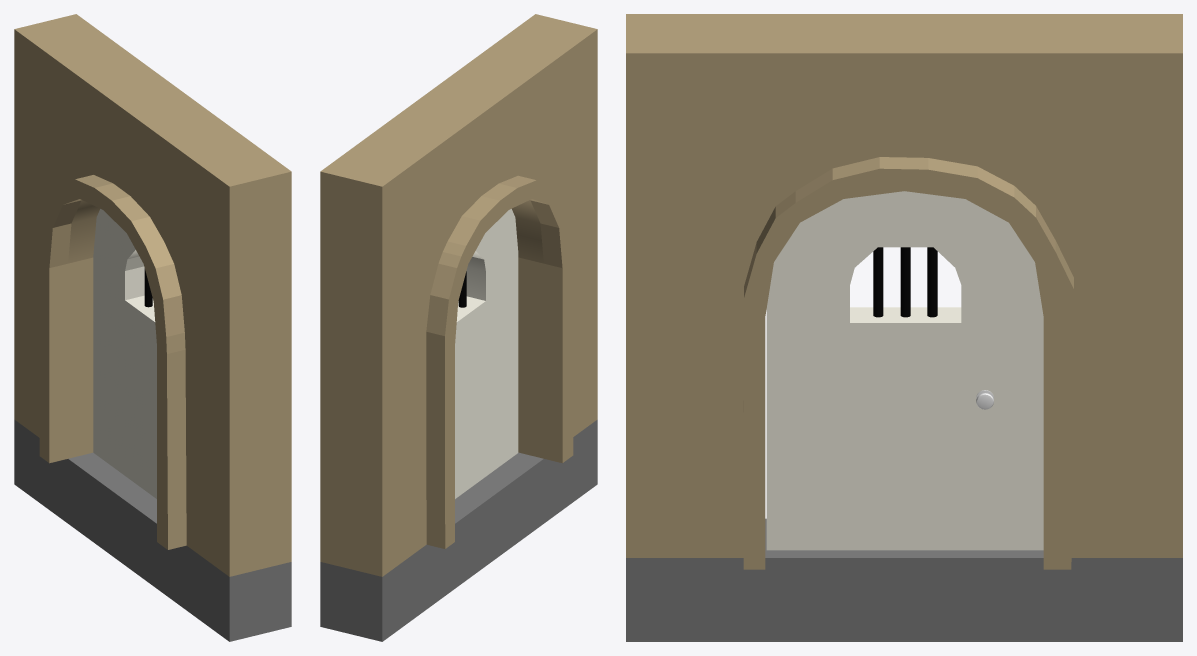
Rendered from DoorWithDoor.fbx.
The picture shows the model from 3 angles, left to right: view 1: azimuth 30°, elevation 25°; view 2: azimuth 150°, elevation 25°; view 3: azimuth 270°, elevation 25°; orthographic projection. The views are drawn at different scales.
Visible parts, largest first — view 1: Box001; view 2: Box001; view 3: Box001.
Boxes of the visible parts, x1=… form: Box001: x1=14, y1=14, x2=291, y2=641; Box001: x1=320, y1=14, x2=597, y2=641; Box001: x1=626, y1=14, x2=1182, y2=641.
Size of the model in its own units: 80 by 350 by 300.
